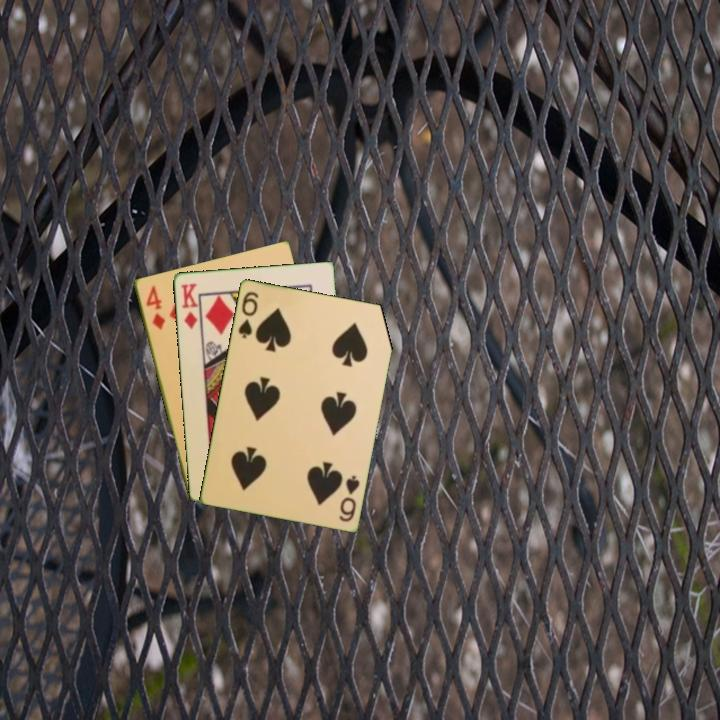4d: (142, 282, 168, 333)
6s: (335, 471, 362, 524), (235, 288, 261, 341)
Kd: (177, 279, 201, 332)
